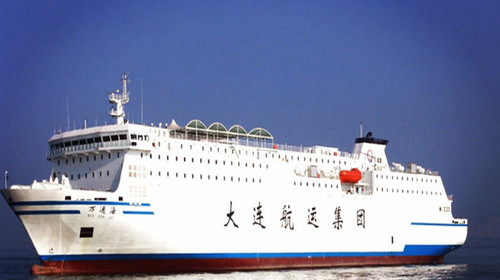youlun: (6, 85, 471, 274)
